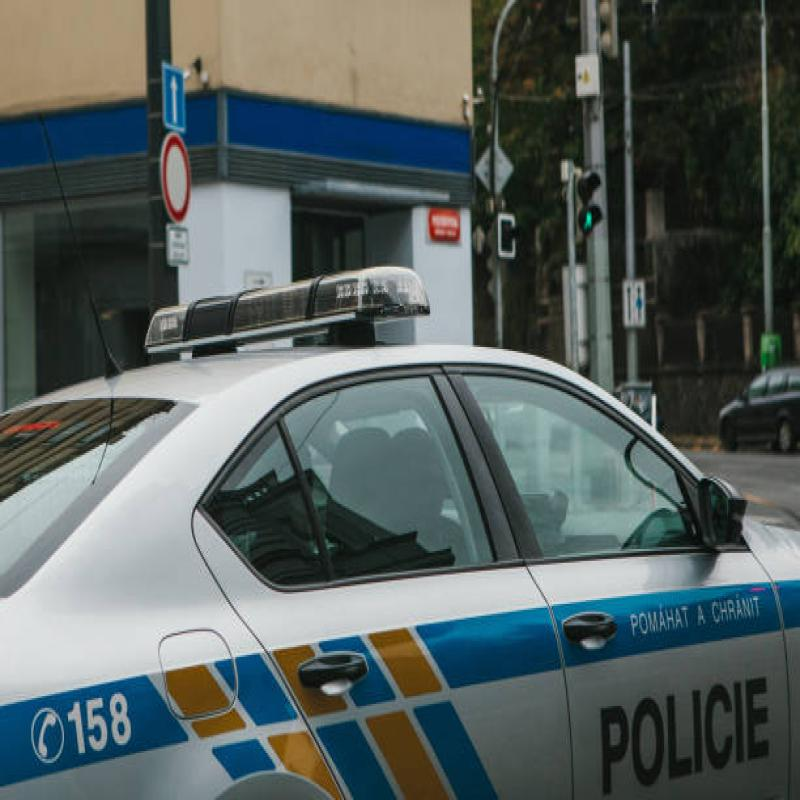AmbulanceSiren: (148, 228, 421, 362)
